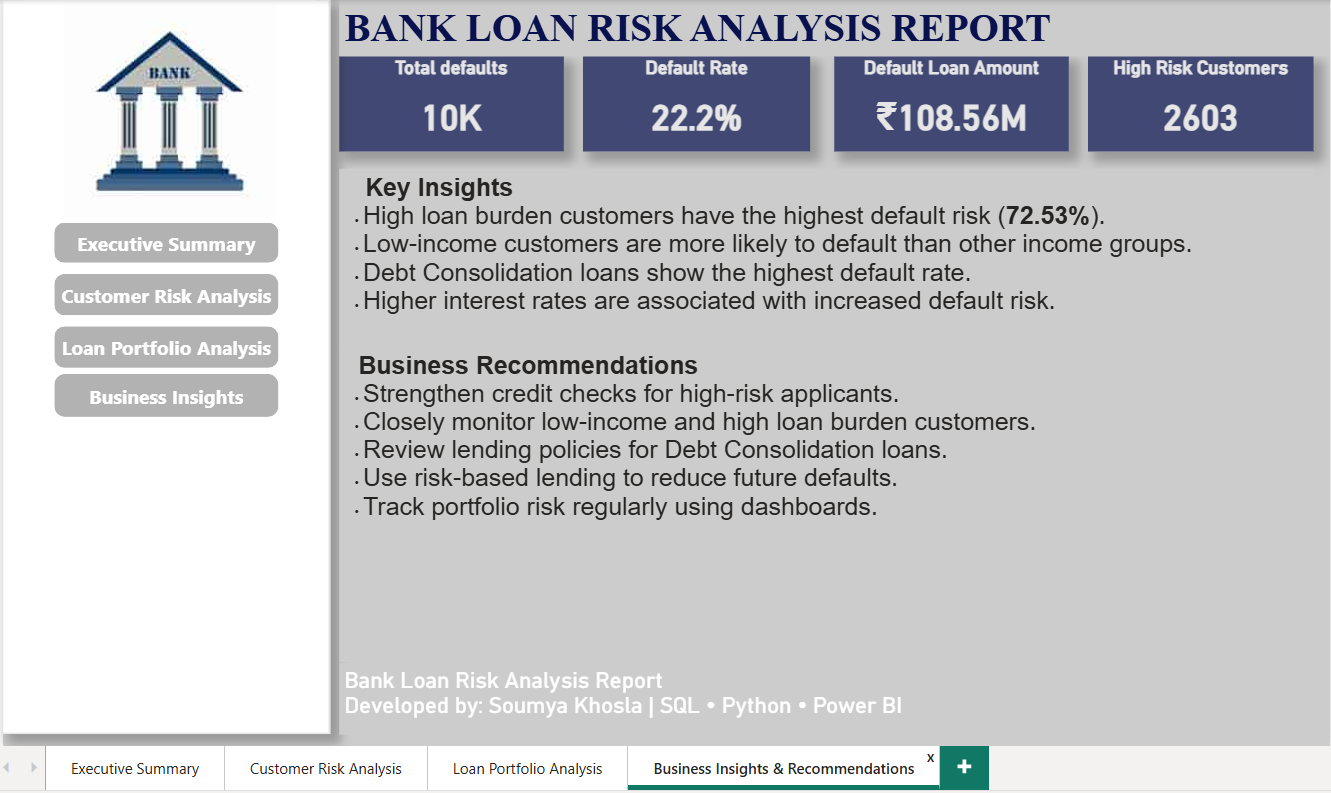

Layout of this report page (visuals, bound fields, positions):
{"tool":"powerbi","page":{"name":"Business Insights & Recommendations","canvas":[1280,720],"ordinal":3},"visuals":[{"type":"card","title":"Default Loan Amount","fields":{"Values":["LoanData.Default Loan Amount"]},"box":[802.2,54.8,226.5,92.3],"z":0},{"type":"card","title":"Total defaults","fields":{"Values":["LoanData.Total Defaults"]},"box":[324.6,54.8,216.4,92.3],"z":2000},{"type":"card","title":"Default Rate","fields":{"Values":["LoanData.Default Rate"]},"box":[559.8,54.8,219.3,92.3],"z":3000},{"type":"card","title":"High Risk Customers","fields":{"Values":["LoanData.High Risk Customers"]},"box":[1047.4,54.8,217.9,92.3],"z":4000},{"type":"shape","box":[0,0,316,708.4],"z":10000},{"type":"actionButton","box":[49.1,264,216.4,40.4],"z":11000},{"type":"actionButton","box":[49.1,215,216.4,39],"z":12000},{"type":"actionButton","box":[49.1,314.5,216.4,40.4],"z":13000},{"type":"actionButton","box":[49.1,360.7,216.4,41.8],"z":14000},{"type":"image","box":[18.8,0,282.8,215],"z":15000},{"type":"textbox","box":[324.5,0,955.5,54.3],"z":16000},{"type":"textbox","box":[324.6,163,940.7,171.7],"z":16001},{"type":"textbox","box":[324.6,334.7,940.7,304.4],"z":16002},{"type":"textbox","box":[324.6,639.1,940.7,69.3],"z":16003}]}

Visuals, with their boxes on the page's 1280x720 design canvas (x1, y1, x2, y2). These are canvas units, not pixel positions in the 1331x793 screenshot, which may show the page scaled, cropped or inside an application window:
"Default Loan Amount" card: box=[802, 55, 1029, 147]
"Total defaults" card: box=[325, 55, 541, 147]
"Default Rate" card: box=[560, 55, 779, 147]
"High Risk Customers" card: box=[1047, 55, 1265, 147]
shape: box=[0, 0, 316, 708]
actionButton: box=[49, 264, 266, 304]
actionButton: box=[49, 215, 266, 254]
actionButton: box=[49, 314, 266, 355]
actionButton: box=[49, 361, 266, 402]
image: box=[19, 0, 302, 215]
textbox: box=[324, 0, 1280, 54]
textbox: box=[325, 163, 1265, 335]
textbox: box=[325, 335, 1265, 639]
textbox: box=[325, 639, 1265, 708]
